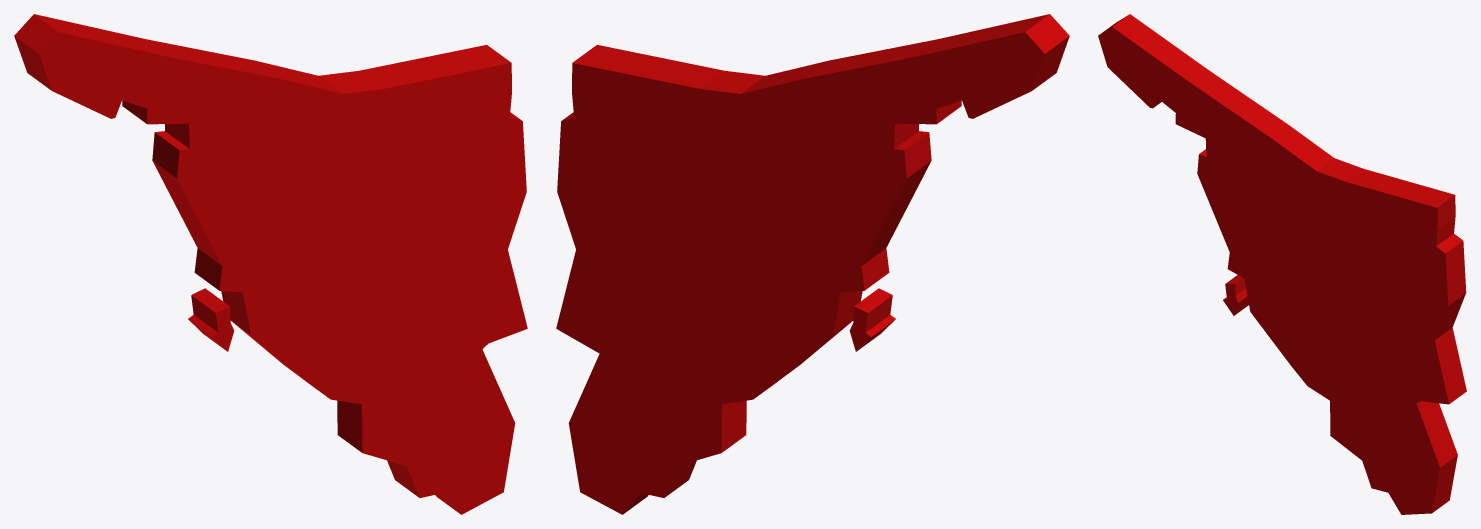
File: sonora.obj
3 views of the same model, side by side, from view 1: azimuth 30°, elevation 25°; view 2: azimuth 150°, elevation 25°; view 3: azimuth 330°, elevation 25° (orthographic). The views are drawn at different scales.
Parts seen in each view (by area): view 1: Sonora_Cube.003; view 2: Sonora_Cube.003; view 3: Sonora_Cube.003.
Boxes of the visible parts, x1,y1,x2,y2 form: Sonora_Cube.003: [14, 14, 527, 514]; Sonora_Cube.003: [556, 14, 1069, 514]; Sonora_Cube.003: [1098, 14, 1466, 514].
Bounding box in the file's own units: 9.67 × 10.98 × 0.8504.
